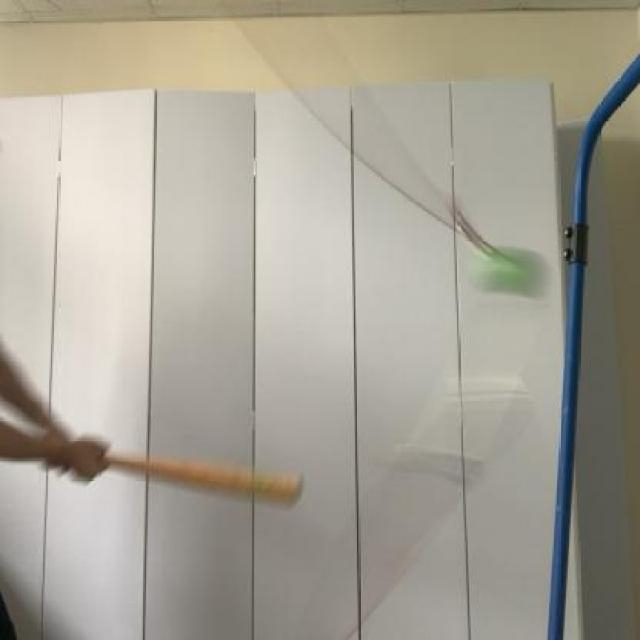baseball: (468, 231, 563, 314)
